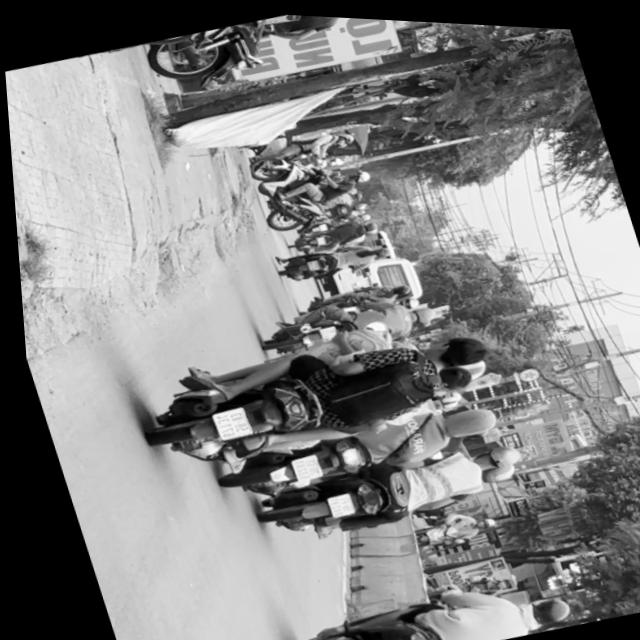helmet: (435, 394, 496, 436), (515, 588, 566, 626), (466, 436, 518, 470), (473, 455, 511, 481)
licenseplate: (116, 290, 506, 492), (198, 374, 512, 512), (240, 417, 530, 559), (269, 551, 571, 640)
motorcyclist: (416, 324, 486, 371), (417, 356, 473, 391)
nohelmet: (203, 401, 247, 439), (283, 449, 316, 479), (319, 488, 348, 514), (365, 635, 399, 640)
